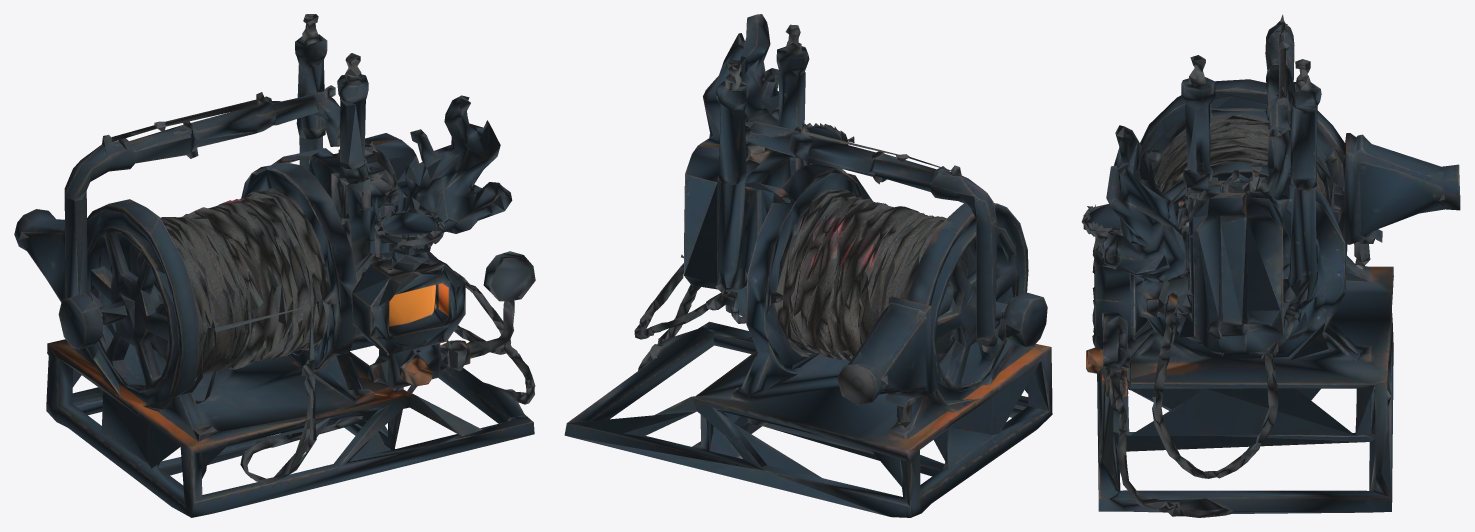
Rendered from fv_reforger.glb.
3 renders of one model, left to right at view 1: azimuth 30°, elevation 25°; view 2: azimuth 150°, elevation 25°; view 3: azimuth 270°, elevation 25°, orthographic. The views are drawn at different scales.
Parts seen in each view (by area): view 1: fv_reforger; view 2: fv_reforger; view 3: fv_reforger.
Part boxes in pixels (<box>): fv_reforger: <box>14,14,535,517</box>; fv_reforger: <box>564,14,1052,517</box>; fv_reforger: <box>1081,14,1460,517</box>.
Size of the model in its own units: 2.4 by 2.07 by 1.84.
1 material, 1 textured.
